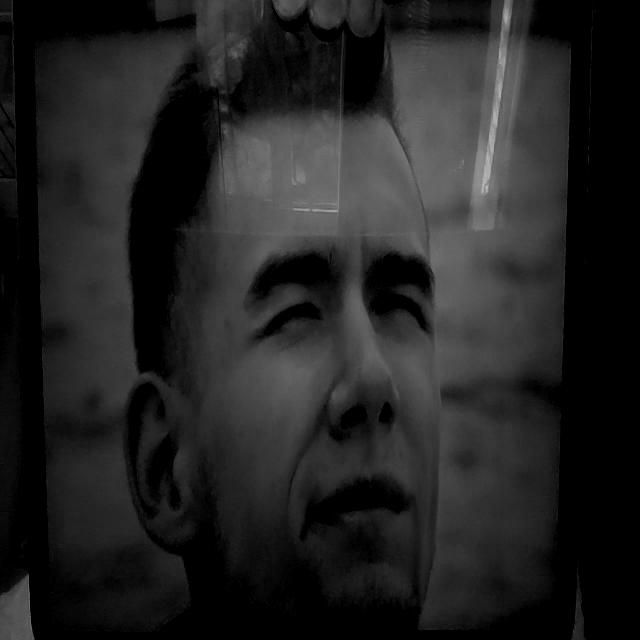fake: (15, 0, 594, 640)
